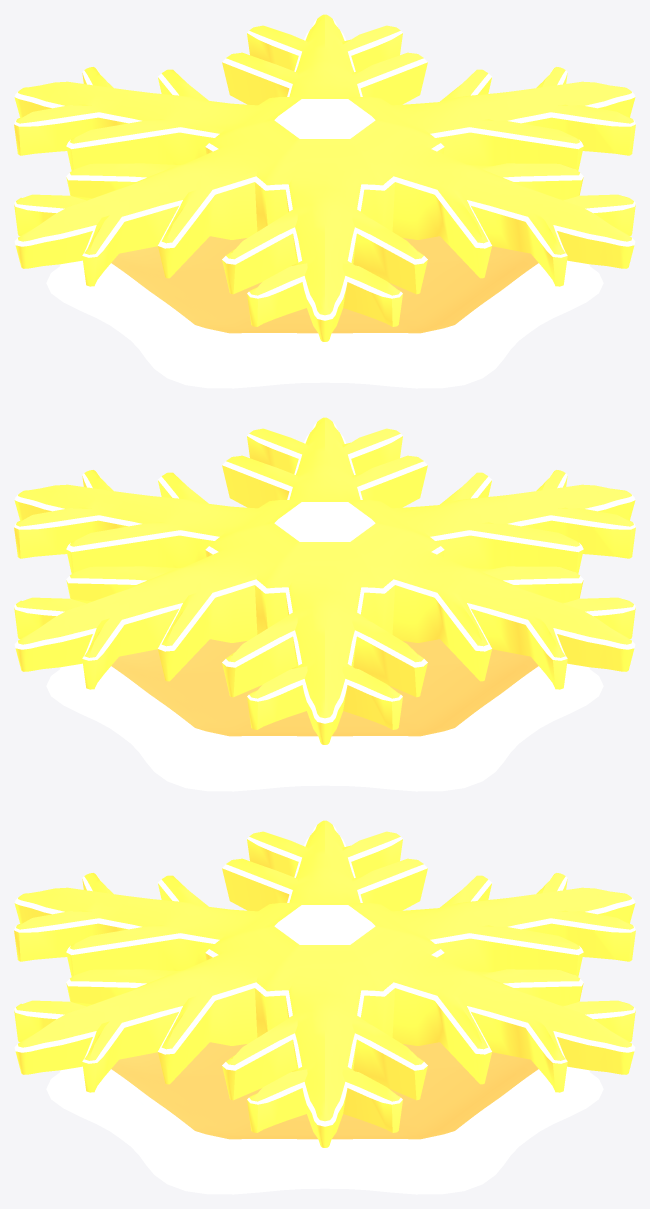
The model's file is Ice_Snowflake_Amber.glb.
3 renders of one model, top to bottom at view 1: azimuth 30°, elevation 25°; view 2: azimuth 150°, elevation 25°; view 3: azimuth 270°, elevation 25°, orthographic.
Visible parts, largest first — view 1: Button_Amber_Surface, Button_Amber_Frame; view 2: Button_Amber_Surface, Button_Amber_Frame; view 3: Button_Amber_Surface, Button_Amber_Frame.
Boxes of the visible parts, x1,y1,x2,y2 form: Button_Amber_Surface: [14, 14, 635, 341]; Button_Amber_Frame: [46, 236, 603, 388]; Button_Amber_Surface: [14, 417, 635, 744]; Button_Amber_Frame: [46, 639, 603, 791]; Button_Amber_Surface: [14, 820, 635, 1147]; Button_Amber_Frame: [46, 1042, 603, 1194].
Size of the model in its own units: 2 by 0.525 by 1.74.
